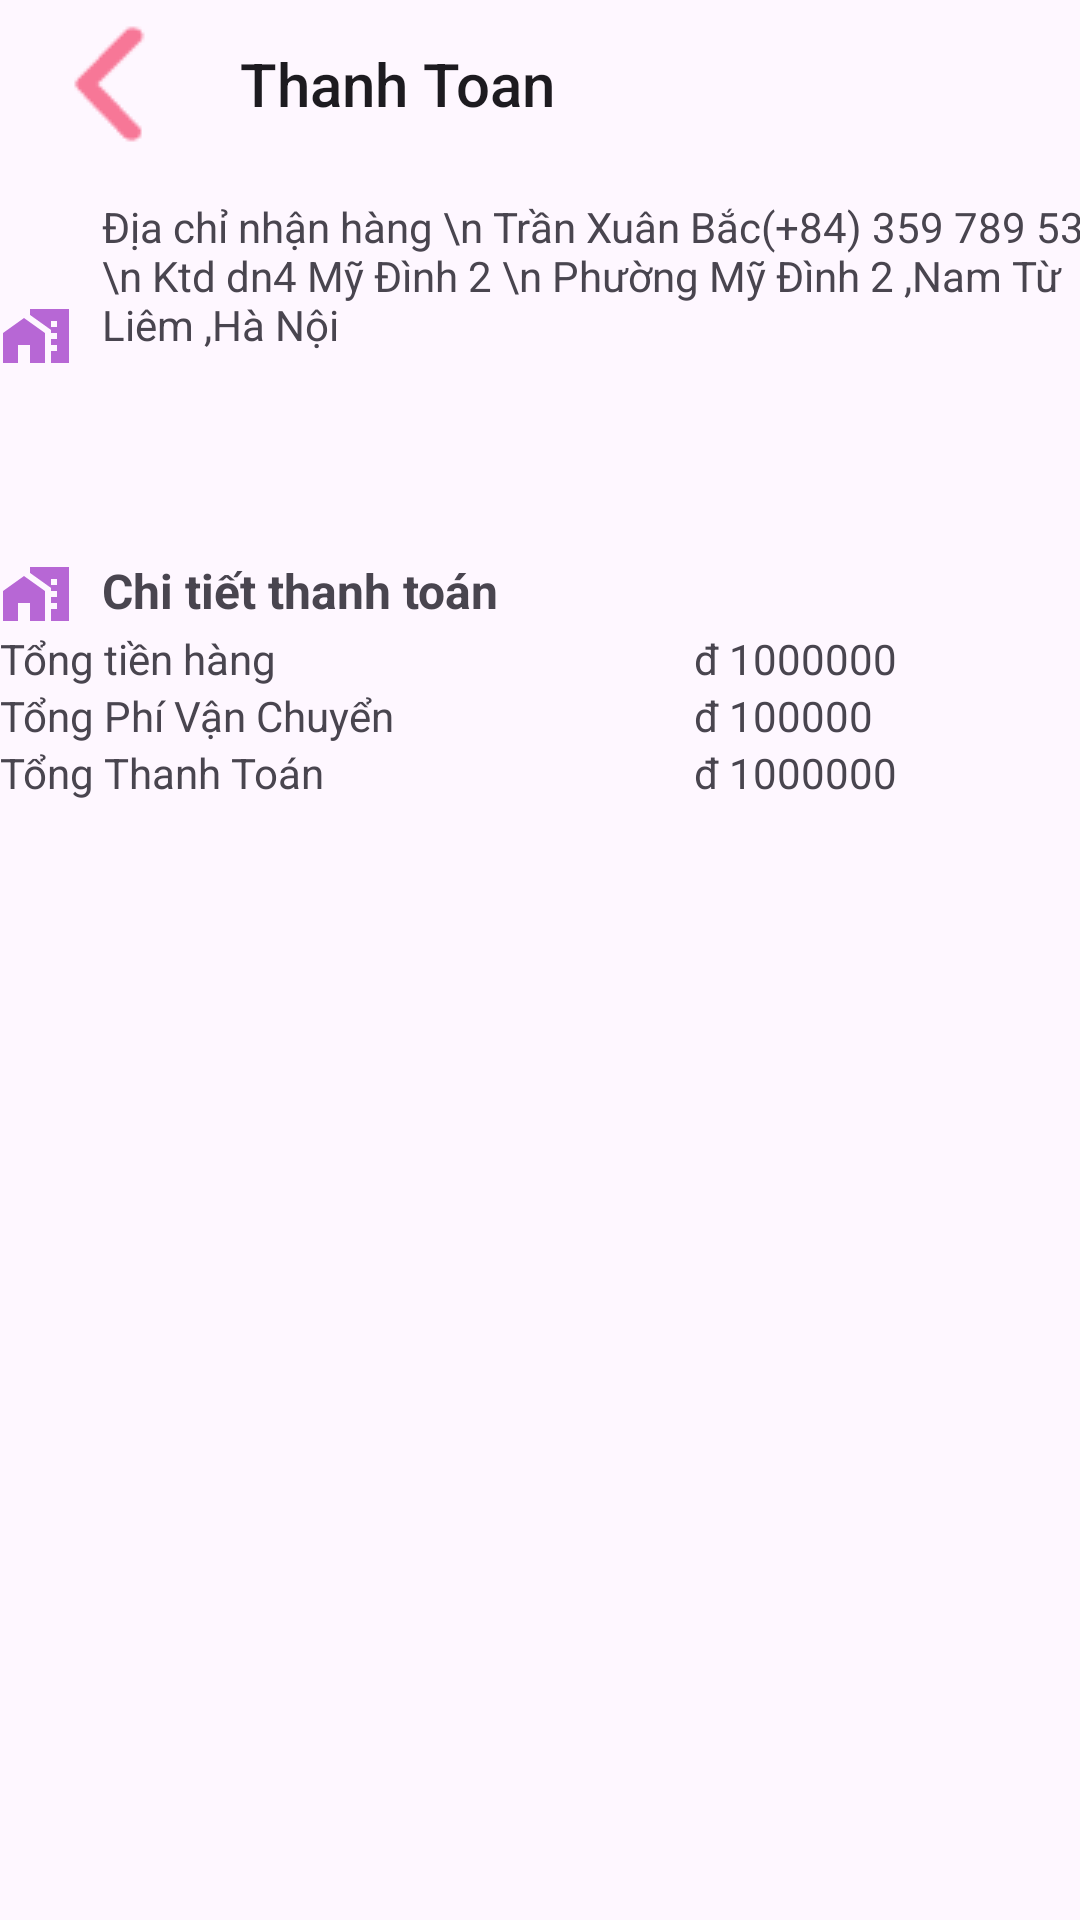

Named icons in this screenshot (1080 × 1920) and their bounding boxes, detection(x1, y1, x2, y2):
address: detection(3, 309, 69, 363)
